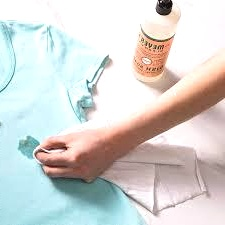oil: (16, 134, 32, 158), (27, 134, 44, 146)
